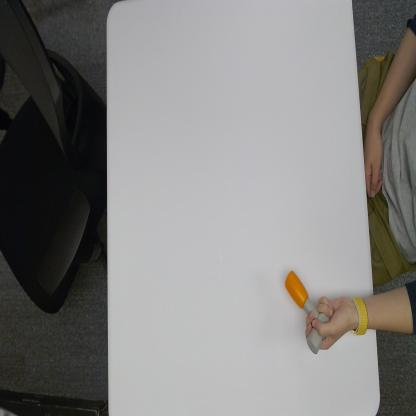Hammer: (284, 270, 330, 356)
Hand: (306, 296, 352, 353)
